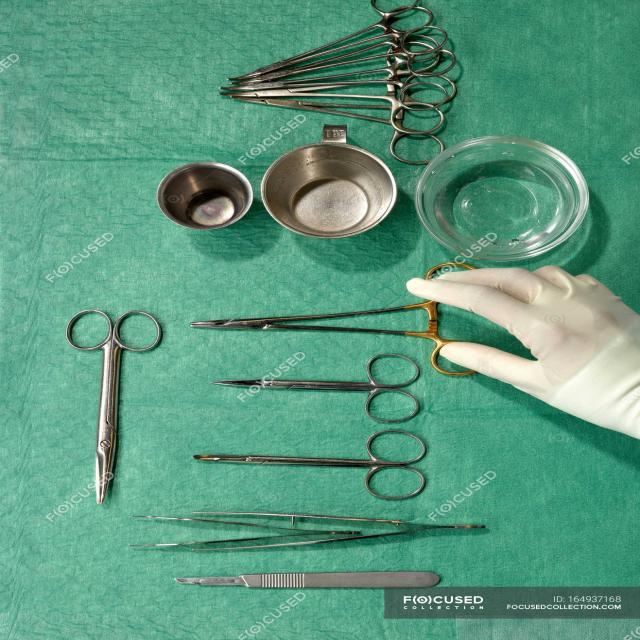B3: (188, 259, 513, 377), (146, 419, 476, 504), (39, 295, 168, 510), (199, 346, 450, 427)
